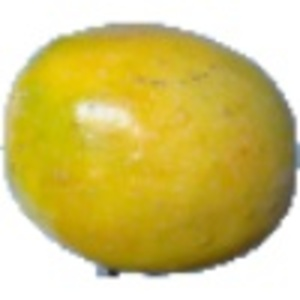maracujá: (1, 21, 300, 280)
